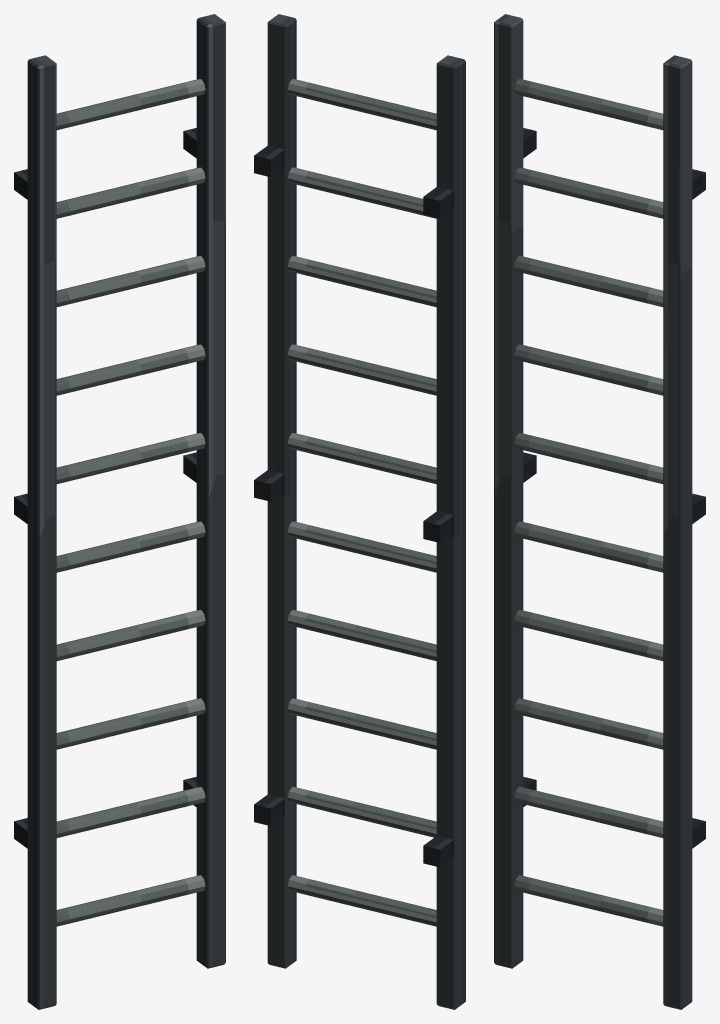
Rendered from sewer_ladder.glb.
3 renders of one model, left to right at view 1: azimuth 30°, elevation 25°; view 2: azimuth 150°, elevation 25°; view 3: azimuth 330°, elevation 25°, orthographic.
Visible parts, largest first — view 1: RailL, RailR, Rung04, Rung02, Rung06, Rung08, Rung00, Rung05, Rung09, Rung03, Rung07, Rung01; view 2: RailL, RailR, Rung03, Rung00, Rung09, Rung02, Rung01, Rung04, Rung05, Rung06, Rung07, Rung08 (+6 smaller); view 3: RailR, RailL, Rung04, Rung02, Rung06, Rung08, Rung00, Rung05, Rung09, Rung03, Rung07, Rung01.
Boxes of the visible parts, x1,y1,x2,y2 form: RailL: (27,55,56,1009); RailR: (196,14,225,968); Rung04: (56,521,205,572); Rung02: (56,698,205,749); Rung06: (56,344,205,395); Rung08: (56,167,205,218); Rung00: (56,875,205,926); Rung05: (56,433,205,483); Rung09: (56,79,205,130); Rung03: (56,610,205,660); Rung07: (56,256,205,306); Rung01: (56,787,205,837); RailL: (436,55,465,1009); RailR: (267,14,296,968); Rung03: (287,610,436,661); Rung00: (288,875,436,926); Rung09: (288,79,436,130); Rung02: (288,698,436,749); Rung01: (287,787,436,837); Rung04: (288,521,436,572); Rung05: (288,433,436,484); Rung06: (288,344,436,395); Rung07: (288,256,436,307); Rung08: (287,167,436,218); RailR: (663,55,692,1009); RailL: (494,14,523,968); Rung04: (514,521,663,572); Rung02: (514,698,663,749); Rung06: (514,344,663,395); Rung08: (514,167,663,218); Rung00: (514,875,663,926); Rung05: (514,433,663,483); Rung09: (514,79,663,130); Rung03: (514,610,663,660); Rung07: (514,256,663,306); Rung01: (514,787,663,837).
Size of the model in its own units: 0.67 by 3.2 by 0.155.
Materials: 2 (2 with a texture image).
